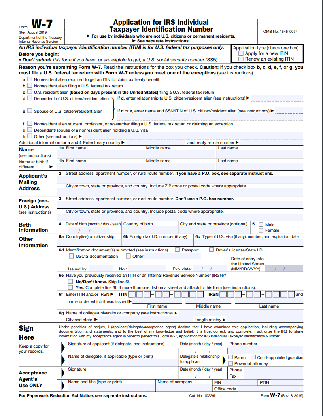checkbox: (257, 226, 264, 234), (227, 359, 234, 367), (26, 87, 33, 95), (257, 221, 264, 228), (68, 252, 75, 259), (174, 246, 181, 253), (208, 246, 215, 253), (67, 278, 74, 285), (66, 283, 73, 290), (227, 354, 234, 361), (250, 354, 257, 361), (26, 76, 33, 83), (26, 81, 33, 88), (26, 94, 33, 101), (26, 107, 33, 114), (26, 120, 33, 127), (26, 126, 33, 133), (26, 132, 33, 139), (237, 55, 244, 62), (125, 252, 131, 259), (238, 49, 244, 56)
textbox: (55, 169, 305, 185), (55, 194, 305, 210), (55, 206, 305, 222), (55, 182, 305, 197), (66, 352, 180, 368), (65, 364, 179, 380), (66, 340, 180, 355), (192, 233, 305, 248), (64, 377, 157, 393), (55, 156, 145, 172), (215, 144, 305, 160), (214, 156, 304, 172), (56, 144, 146, 159), (142, 144, 218, 160), (176, 219, 252, 235), (142, 156, 217, 172), (226, 341, 306, 355), (55, 219, 123, 235), (55, 231, 123, 247), (176, 308, 306, 316), (120, 233, 194, 247), (120, 219, 180, 236), (210, 383, 305, 393), (154, 378, 214, 393), (177, 365, 229, 381), (224, 314, 304, 324), (176, 339, 229, 354), (226, 370, 305, 380), (98, 315, 192, 323), (226, 365, 305, 374), (257, 377, 306, 387), (211, 377, 259, 386), (173, 289, 205, 299), (264, 289, 296, 299), (218, 289, 243, 299), (128, 290, 151, 299), (154, 289, 171, 299), (245, 289, 262, 299)
textline: (83, 132, 305, 141), (113, 114, 306, 121), (250, 93, 304, 103), (233, 298, 305, 305), (142, 253, 204, 261), (238, 140, 306, 147), (183, 297, 234, 306), (125, 139, 185, 146), (132, 297, 184, 305), (127, 265, 170, 273), (274, 104, 305, 115), (264, 265, 304, 273), (192, 265, 228, 273), (88, 265, 119, 273)
